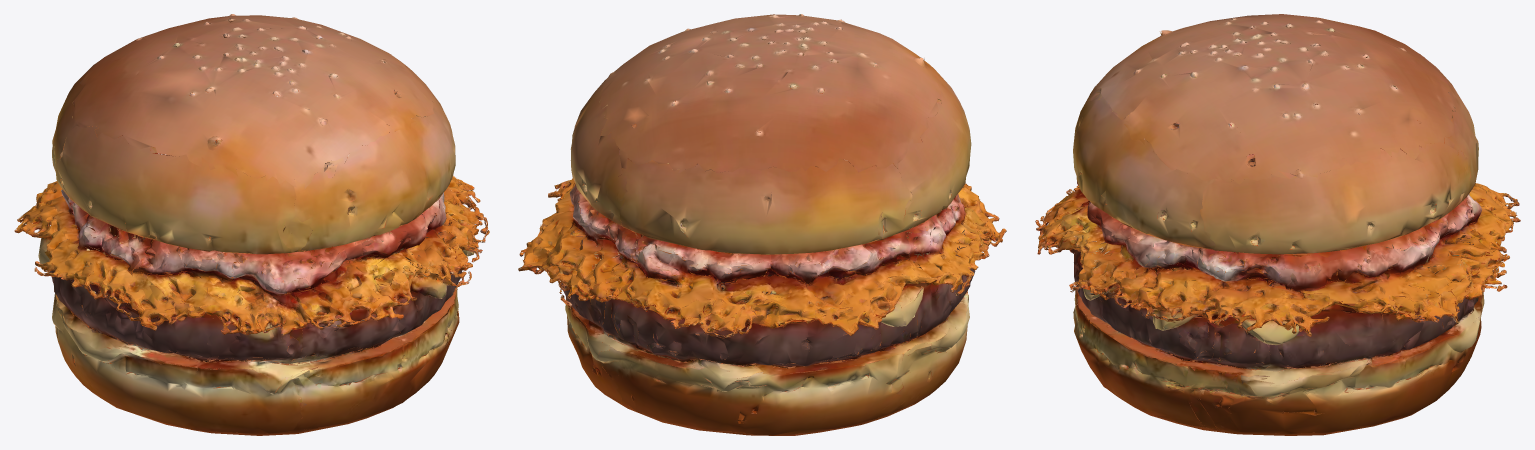
Rendered from SantoBurger_meshopt_test.glb.
3 renders of one model, left to right at view 1: azimuth 30°, elevation 25°; view 2: azimuth 150°, elevation 25°; view 3: azimuth 270°, elevation 25°, orthographic.
Visible parts, largest first — view 1: model; view 2: model; view 3: model.
Boxes of the visible parts, x1,y1,x2,y2 form: model: [14, 14, 489, 435]; model: [518, 14, 1006, 435]; model: [1035, 14, 1520, 435].
Size of the model in its own units: 1.9 by 1.4 by 1.93.
1 material, 1 textured.
